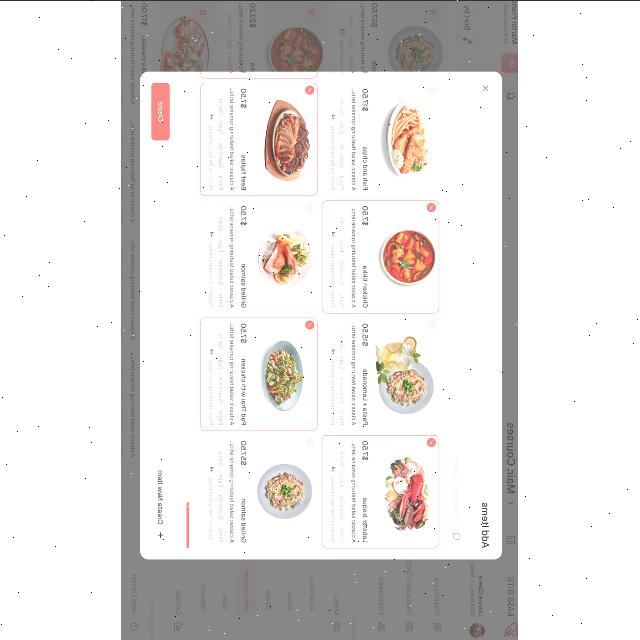QLabel: (352, 86, 358, 190), (352, 322, 358, 424), (230, 205, 236, 307), (230, 322, 236, 424), (352, 439, 356, 543), (231, 86, 235, 190), (482, 502, 491, 548), (352, 205, 356, 307), (231, 440, 235, 542), (242, 358, 248, 424), (158, 470, 165, 524), (362, 497, 370, 543), (363, 368, 369, 424), (363, 146, 369, 190), (332, 124, 336, 190), (210, 124, 214, 190), (241, 498, 247, 542), (210, 476, 214, 542), (332, 478, 336, 542), (332, 360, 336, 424), (332, 242, 336, 306), (210, 242, 214, 306), (210, 360, 214, 424), (363, 265, 369, 307), (241, 154, 247, 190), (362, 322, 370, 346), (242, 262, 246, 308), (362, 88, 370, 110), (362, 440, 370, 460), (340, 494, 346, 520), (340, 259, 346, 285), (340, 141, 346, 167), (362, 206, 370, 224), (240, 206, 248, 224), (242, 440, 248, 464), (158, 100, 164, 122), (242, 87, 248, 107), (242, 322, 248, 342), (341, 376, 345, 402), (220, 141, 224, 167), (220, 259, 224, 285), (220, 376, 224, 402), (220, 493, 224, 519), (340, 526, 346, 542), (340, 450, 346, 466), (340, 332, 346, 348), (340, 292, 346, 308), (340, 174, 346, 190), (340, 97, 346, 113), (340, 410, 346, 424), (340, 216, 346, 230), (218, 355, 224, 369), (340, 474, 346, 486), (340, 356, 346, 368), (340, 239, 346, 251), (340, 121, 346, 133), (218, 121, 224, 133), (218, 239, 224, 251), (218, 474, 224, 486), (220, 332, 224, 348), (220, 450, 224, 466), (220, 175, 224, 189), (220, 98, 224, 112), (220, 216, 224, 230), (220, 293, 224, 307), (220, 410, 224, 424), (220, 528, 224, 542), (332, 348, 336, 354), (332, 230, 336, 236), (332, 113, 336, 119), (211, 230, 215, 236), (211, 348, 215, 354), (332, 466, 336, 470), (212, 114, 214, 118), (212, 466, 214, 470)
VBtn: (151, 457, 171, 547), (152, 81, 172, 139)
VCard: (200, 81, 320, 195), (200, 199, 320, 313), (200, 434, 320, 548), (322, 434, 441, 548), (322, 317, 441, 431), (322, 199, 441, 313), (201, 316, 319, 430), (322, 82, 440, 195), (322, 70, 440, 78), (202, 72, 318, 78)
VDialog: (140, 69, 504, 559)
VIcon: (306, 85, 316, 94), (428, 438, 437, 447), (428, 202, 437, 210), (306, 320, 314, 328), (482, 84, 490, 90), (158, 531, 164, 537)
VImg: (375, 335, 435, 413), (264, 98, 312, 180), (382, 99, 431, 179), (383, 454, 431, 530), (260, 226, 314, 288), (381, 228, 437, 284), (258, 463, 314, 519), (264, 340, 306, 410)
VTextField: (447, 320, 468, 548)
